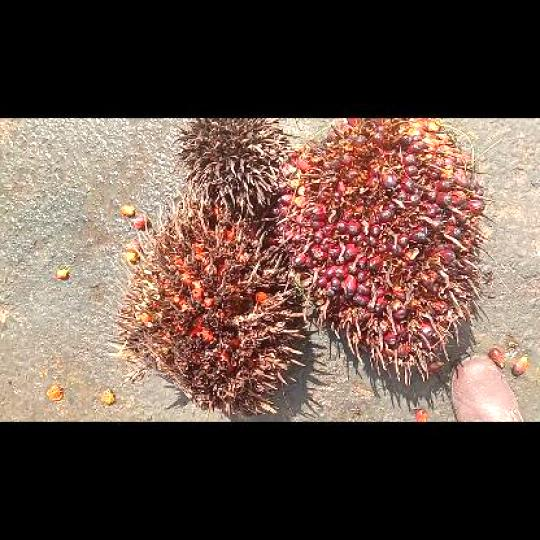masak: (273, 118, 493, 383)
terlalu masak: (107, 191, 303, 419)
